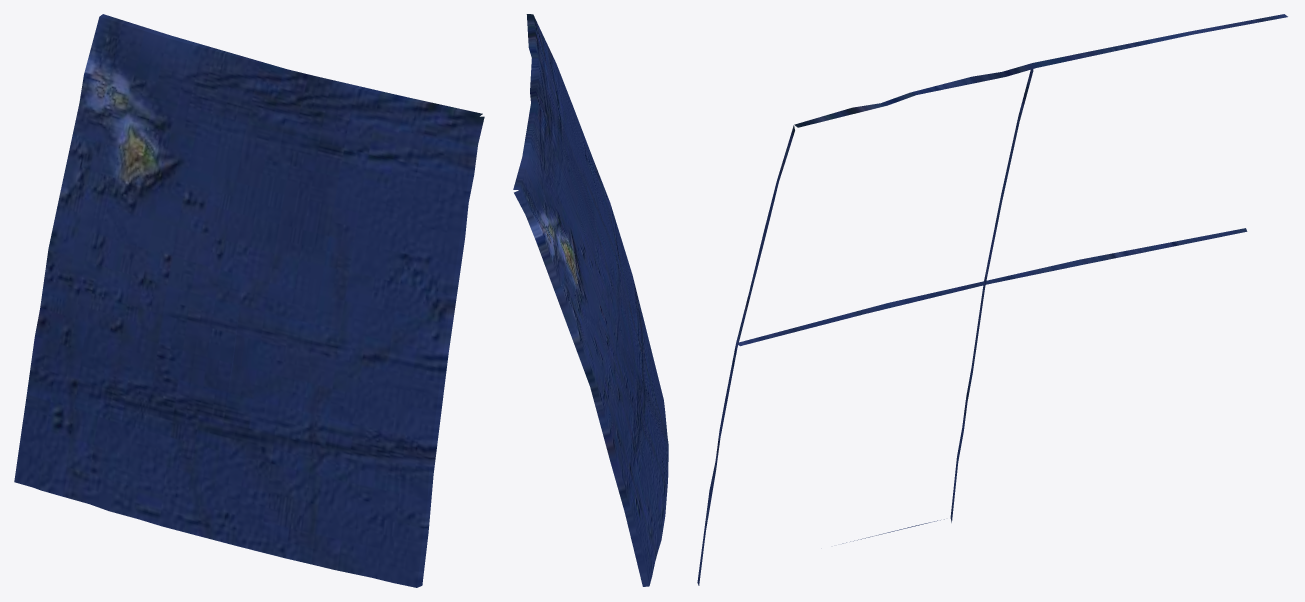
3 views of the same model, side by side, from view 1: azimuth 30°, elevation 25°; view 2: azimuth 150°, elevation 25°; view 3: azimuth 270°, elevation 25° (orthographic). The views are drawn at different scales.
Size of the model in its own units: 898977 by 1206870 by 1235446.
1 material, 1 textured.
